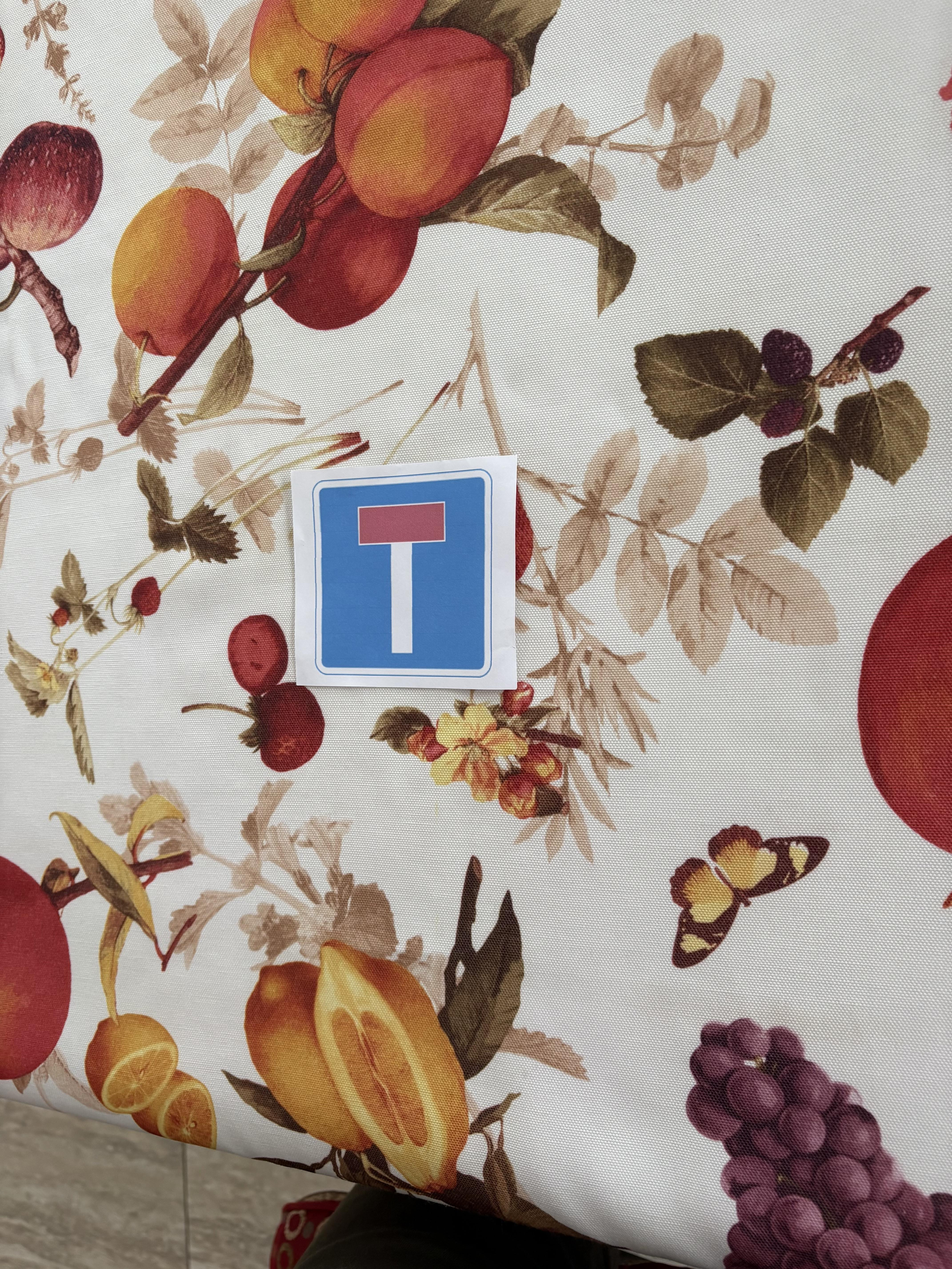Dead End: (296, 471, 513, 686)
